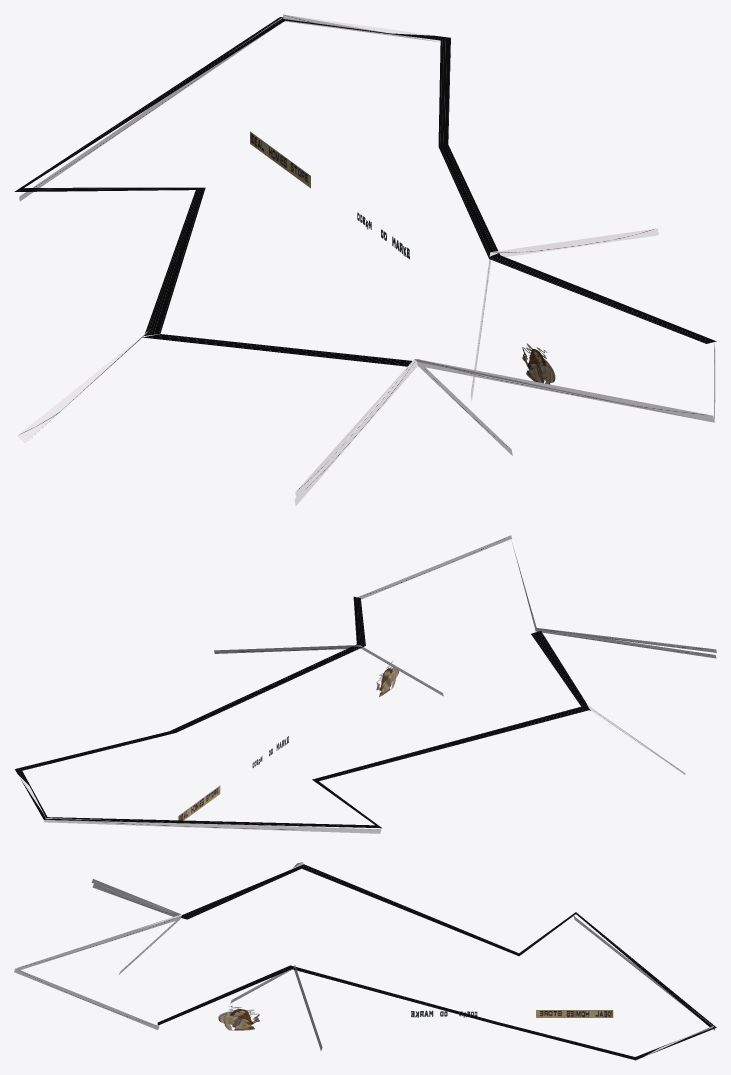
File: furnittrans1_lae.obj
3 views of the same model, one above another, from view 1: azimuth 30°, elevation 25°; view 2: azimuth 150°, elevation 25°; view 3: azimuth 270°, elevation 25° (orthographic). The views are drawn at different scales.
Parts seen in each view (by area): view 1: furnittrans1_LAe; view 2: furnittrans1_LAe; view 3: furnittrans1_LAe.
Boxes of the visible parts, x1,y1,x2,y2 form: furnittrans1_LAe: (14,14,716,505); furnittrans1_LAe: (14,535,716,833); furnittrans1_LAe: (14,862,716,1060).
Bounding box in the file's own units: 134 × 18.61 × 183.
